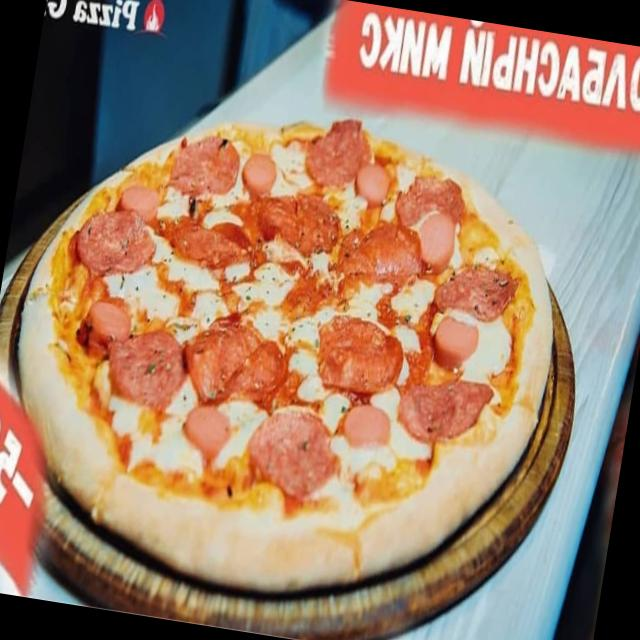pepperoni: (184, 305, 288, 418), (240, 403, 342, 512), (313, 302, 408, 404), (394, 366, 494, 458), (100, 322, 186, 422), (74, 202, 159, 288), (164, 125, 244, 208), (255, 182, 343, 256), (340, 211, 424, 287), (169, 215, 257, 282), (300, 117, 372, 197), (440, 255, 521, 318), (399, 169, 470, 231)
pizza: (16, 121, 550, 593)
